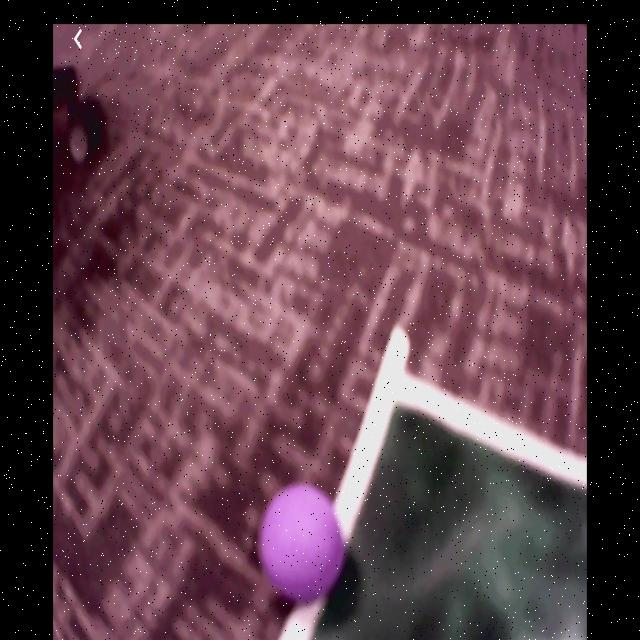ball: (260, 482, 346, 600)
